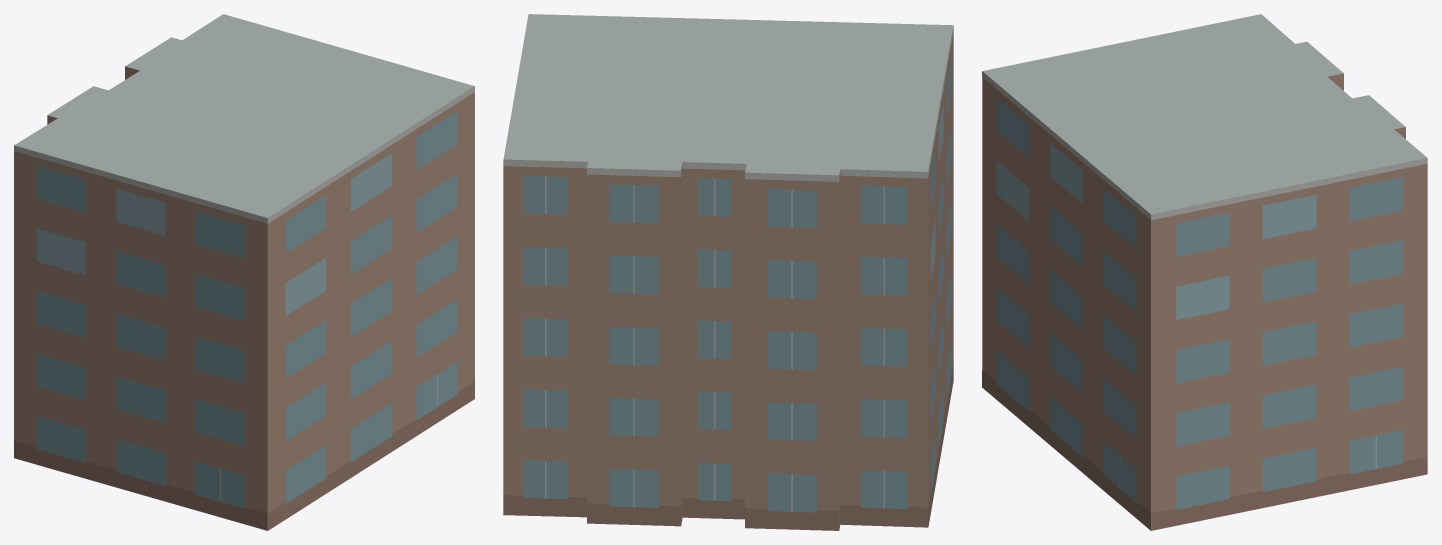
File: survey-upis-32741375.glb
3 views of the same model, side by side, from view 1: azimuth 30°, elevation 25°; view 2: azimuth 150°, elevation 25°; view 3: azimuth 270°, elevation 25° (orthographic). The views are drawn at different scales.
Visible parts, largest first — view 1: survey-upis-32741375.tmp; view 2: survey-upis-32741375.tmp; view 3: survey-upis-32741375.tmp.
Part boxes in pixels (box(x1,y1,x2,y2)): survey-upis-32741375.tmp: box(14, 14, 474, 530); survey-upis-32741375.tmp: box(503, 14, 953, 530); survey-upis-32741375.tmp: box(982, 14, 1427, 530).
Bounding box in the file's own units: 18.06 × 13.28 × 16.95.
